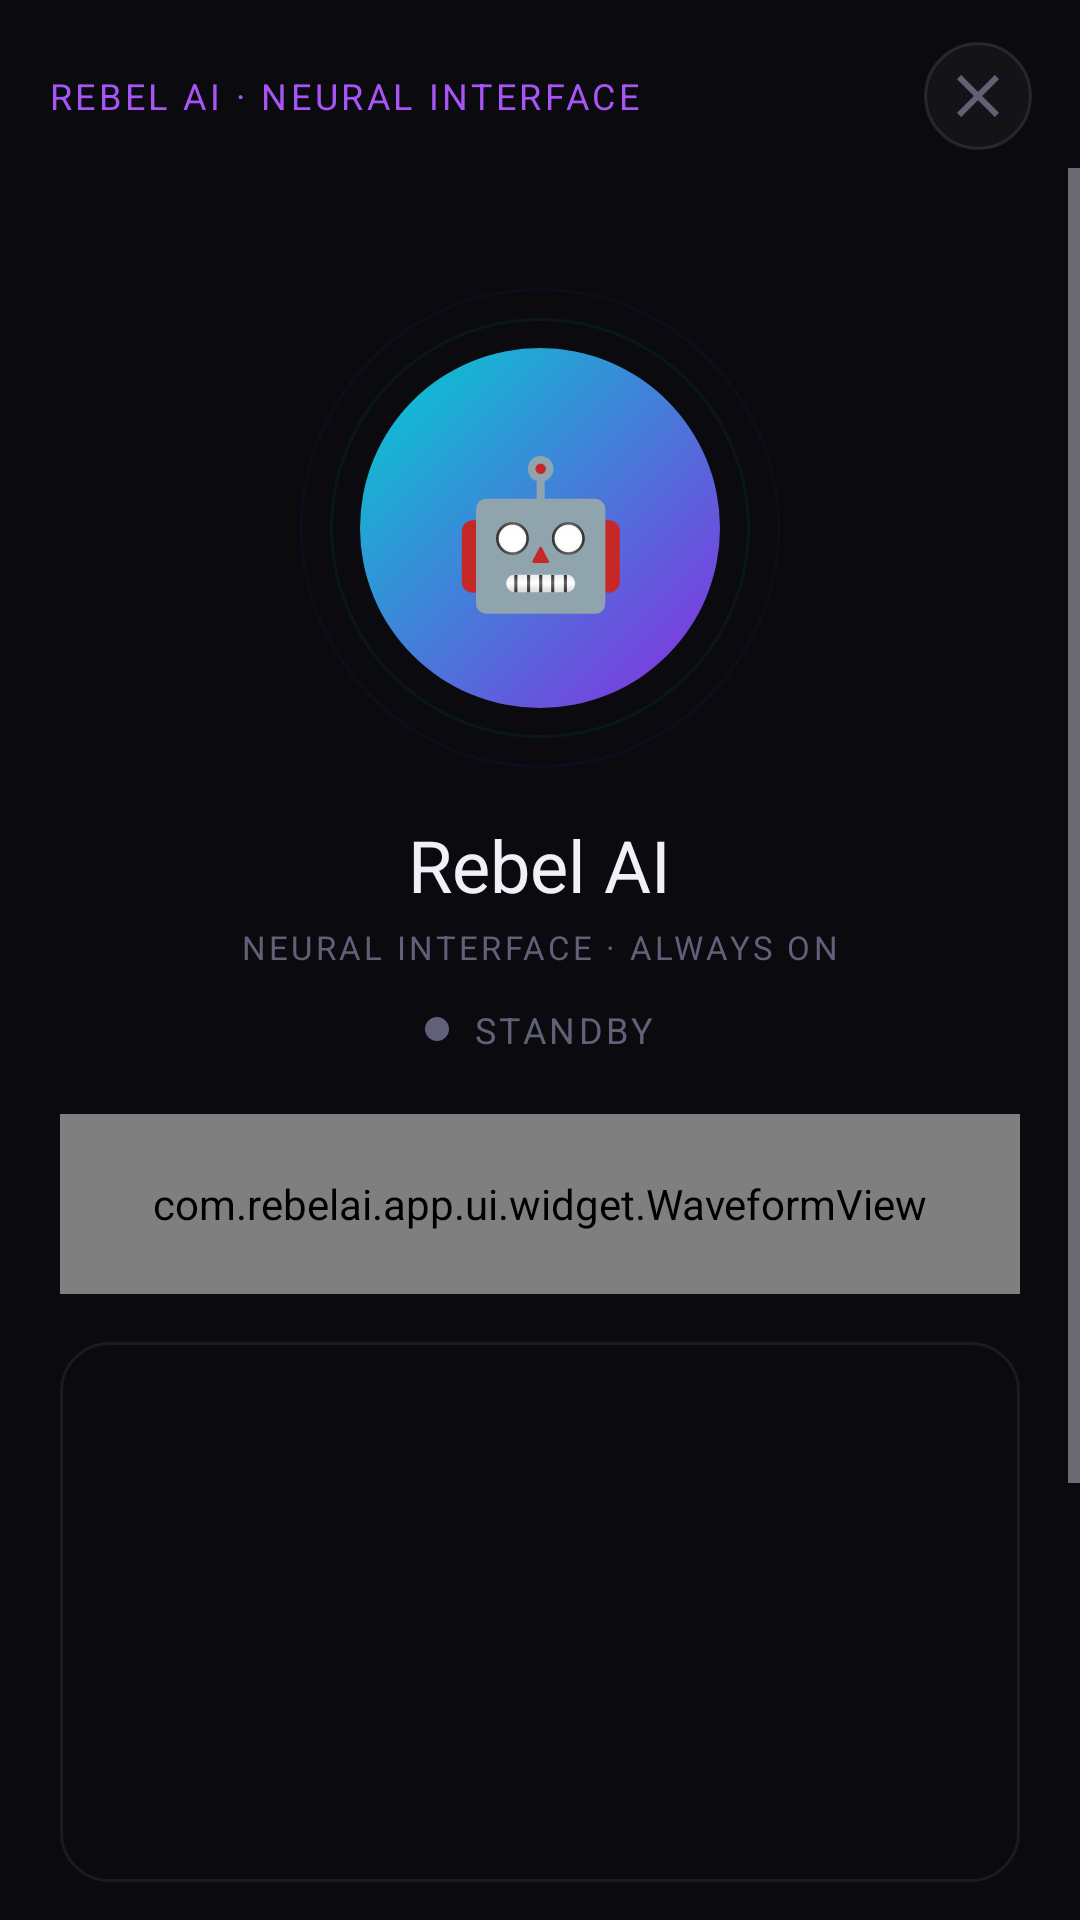

Named icons in this screenshot (1080w x 1920h) and their bounding boxes, (x1, y1, x2, y2):
Close: (924, 42, 1032, 150)
